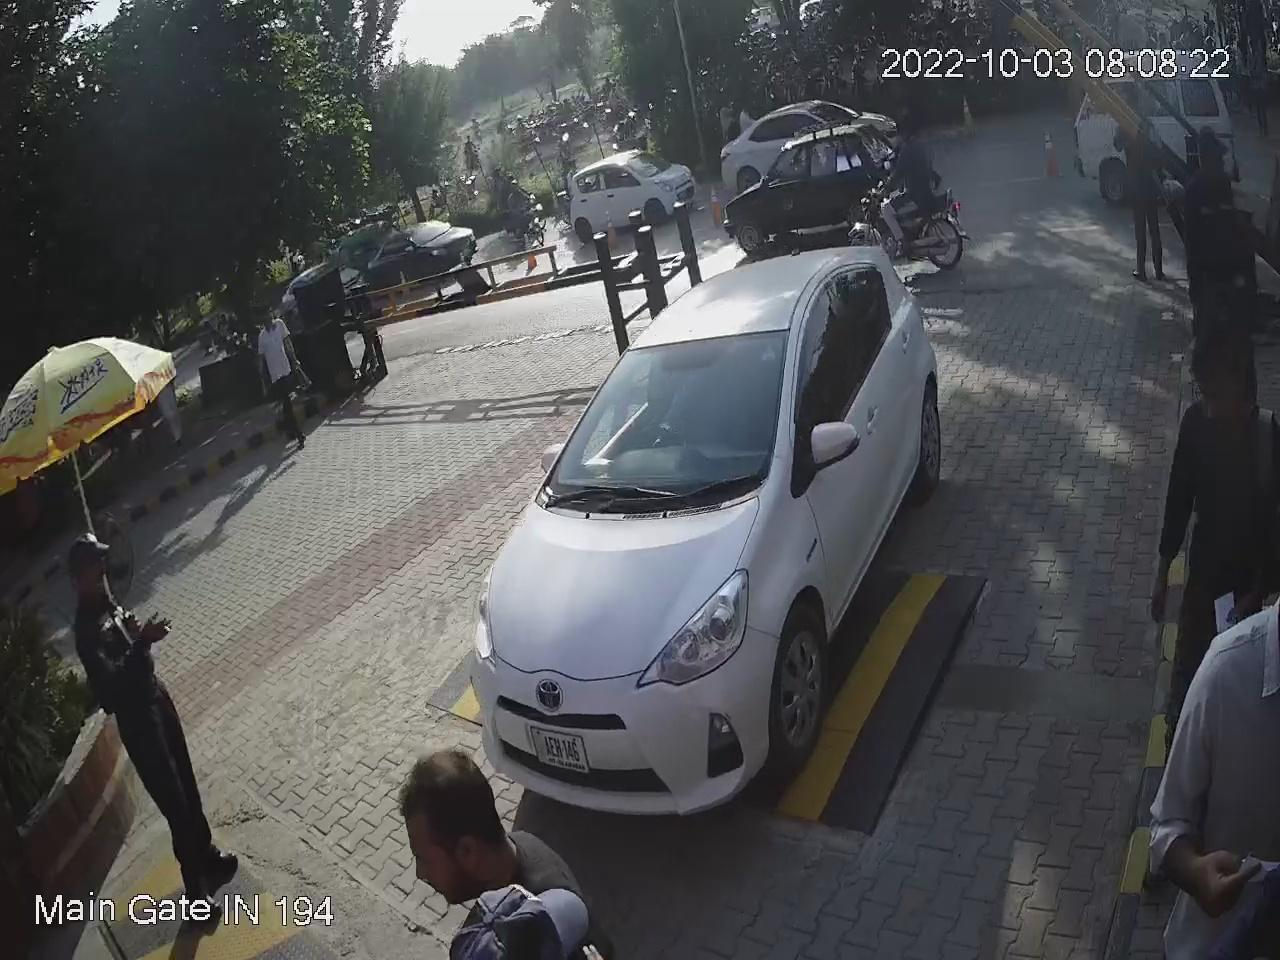windshield: (543, 323, 790, 502)
